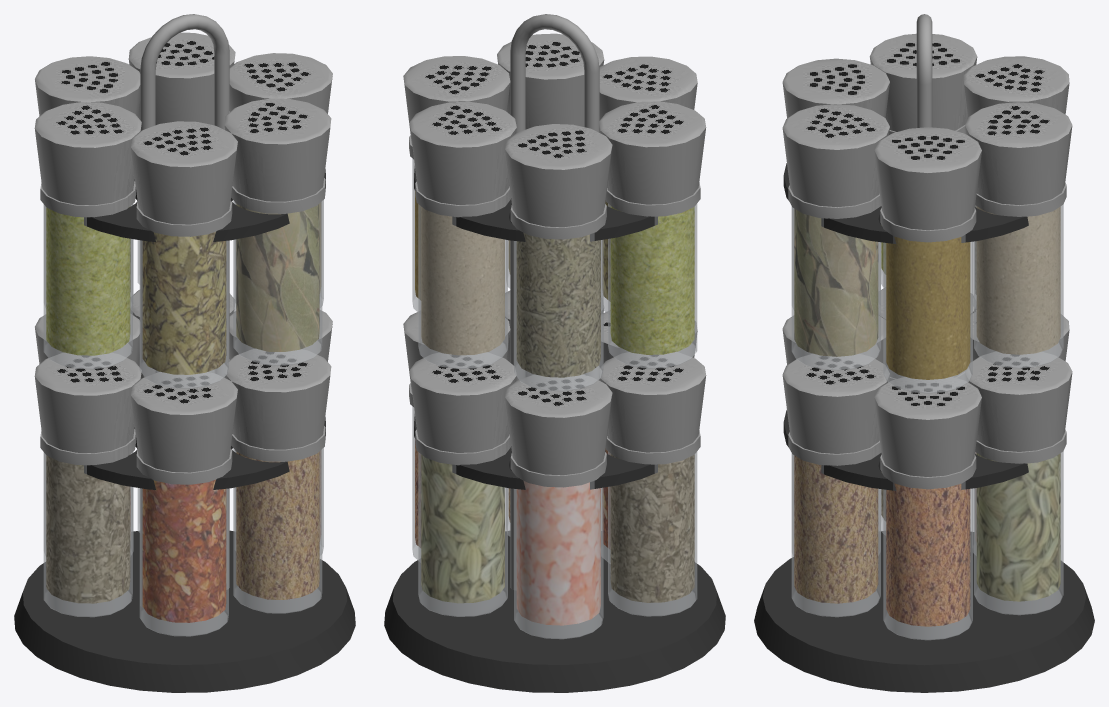
File: spice_container.glb
The picture shows the model from 3 angles, left to right: view 1: azimuth 30°, elevation 25°; view 2: azimuth 150°, elevation 25°; view 3: azimuth 270°, elevation 25°; orthographic projection.
Visible parts, largest first — view 1: Object_17, Object_16, Object_15, Object_4, Object_2, Object_14, Object_13, Object_5, Object_3, Object_11; view 2: Object_16, Object_17, Object_15, Object_12, Object_10, Object_13, Object_14, Object_7, Object_9, Object_11, Object_8, Object_6; view 3: Object_17, Object_16, Object_15, Object_8, Object_6, Object_7, Object_9, Object_5, Object_3, Object_11.
Part boxes in pixels (x1,y1,x2,y2): Object_17: (34, 32, 332, 484); Object_16: (43, 200, 323, 636); Object_15: (14, 169, 355, 692); Object_4: (142, 479, 226, 622); Object_2: (142, 232, 226, 374); Object_14: (46, 207, 130, 355); Object_13: (46, 455, 130, 603); Object_5: (236, 451, 319, 599); Object_3: (236, 203, 319, 351); Object_11: (140, 14, 229, 607); Object_16: (412, 158, 697, 639); Object_17: (403, 33, 706, 487); Object_15: (384, 166, 725, 692); Object_12: (516, 233, 600, 377); Object_10: (516, 481, 600, 625); Object_13: (610, 454, 694, 602); Object_14: (610, 206, 694, 354); Object_7: (421, 454, 504, 603); Object_9: (421, 207, 504, 355); Object_11: (510, 14, 599, 590); Object_8: (415, 191, 420, 299); Object_6: (415, 439, 420, 547); Object_17: (782, 33, 1072, 489); Object_16: (791, 204, 1063, 640); Object_15: (754, 163, 1094, 692); Object_8: (886, 236, 970, 379); Object_6: (886, 483, 970, 626); Object_7: (976, 453, 1060, 601); Object_9: (976, 206, 1060, 354); Object_5: (794, 455, 878, 603); Object_3: (794, 209, 878, 356); Object_11: (916, 14, 932, 127).
Bounding box in the file's own units: 15.9 × 31 × 15.9.
Materials: 16 (13 with a texture image).
